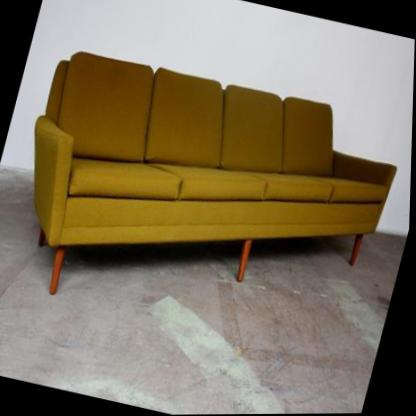Sofa: (0, 37, 415, 366)
